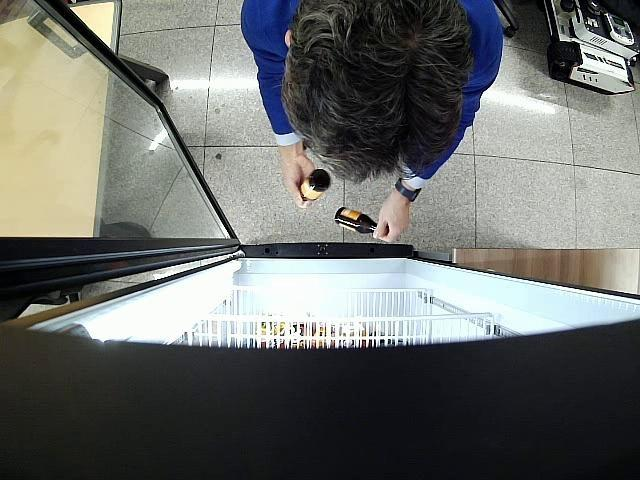17_vita500: (333, 207, 389, 238), (300, 168, 331, 202)
